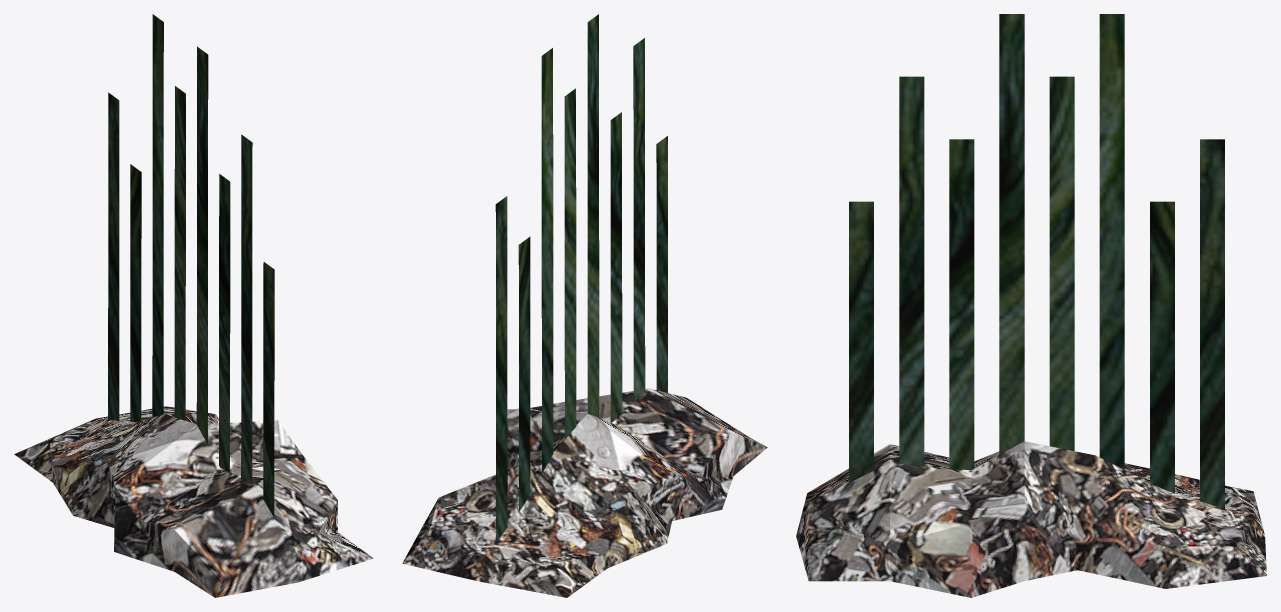
Rendered from Vodorosli.fbx.
3 views of the same model, side by side, from view 1: azimuth 30°, elevation 25°; view 2: azimuth 150°, elevation 25°; view 3: azimuth 270°, elevation 25° (orthographic). The views are drawn at different scales.
Parts seen in each view (by area): view 1: Cube, Plane; view 2: Cube, Plane; view 3: Plane, Cube.
Part boxes in pixels (box(x1,y1,x2,y2)): Cube: box(14, 406, 373, 597); Plane: box(108, 14, 274, 517); Cube: box(402, 388, 767, 597); Plane: box(495, 14, 667, 542); Plane: box(849, 14, 1224, 508); Cube: box(796, 441, 1266, 597).
Bounding box in the file's own units: 268 × 542 × 443.
